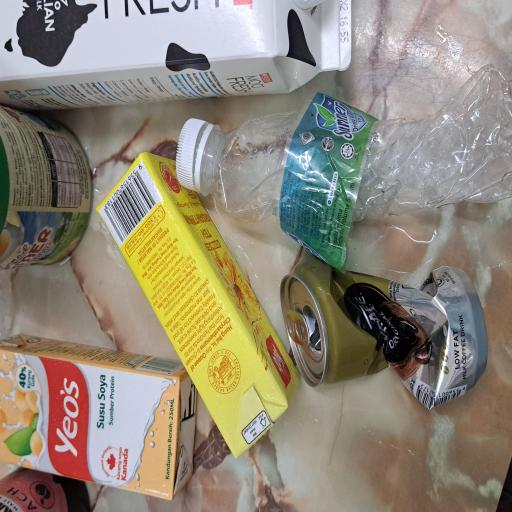can: (76, 371, 201, 512), (182, 0, 306, 122)
drink carton: (39, 130, 270, 398), (304, 0, 384, 473), (8, 0, 133, 261)
plastic bottle: (182, 269, 334, 512)
plastic bottle cap: (240, 236, 297, 280)
pop tab: (124, 380, 153, 412)
